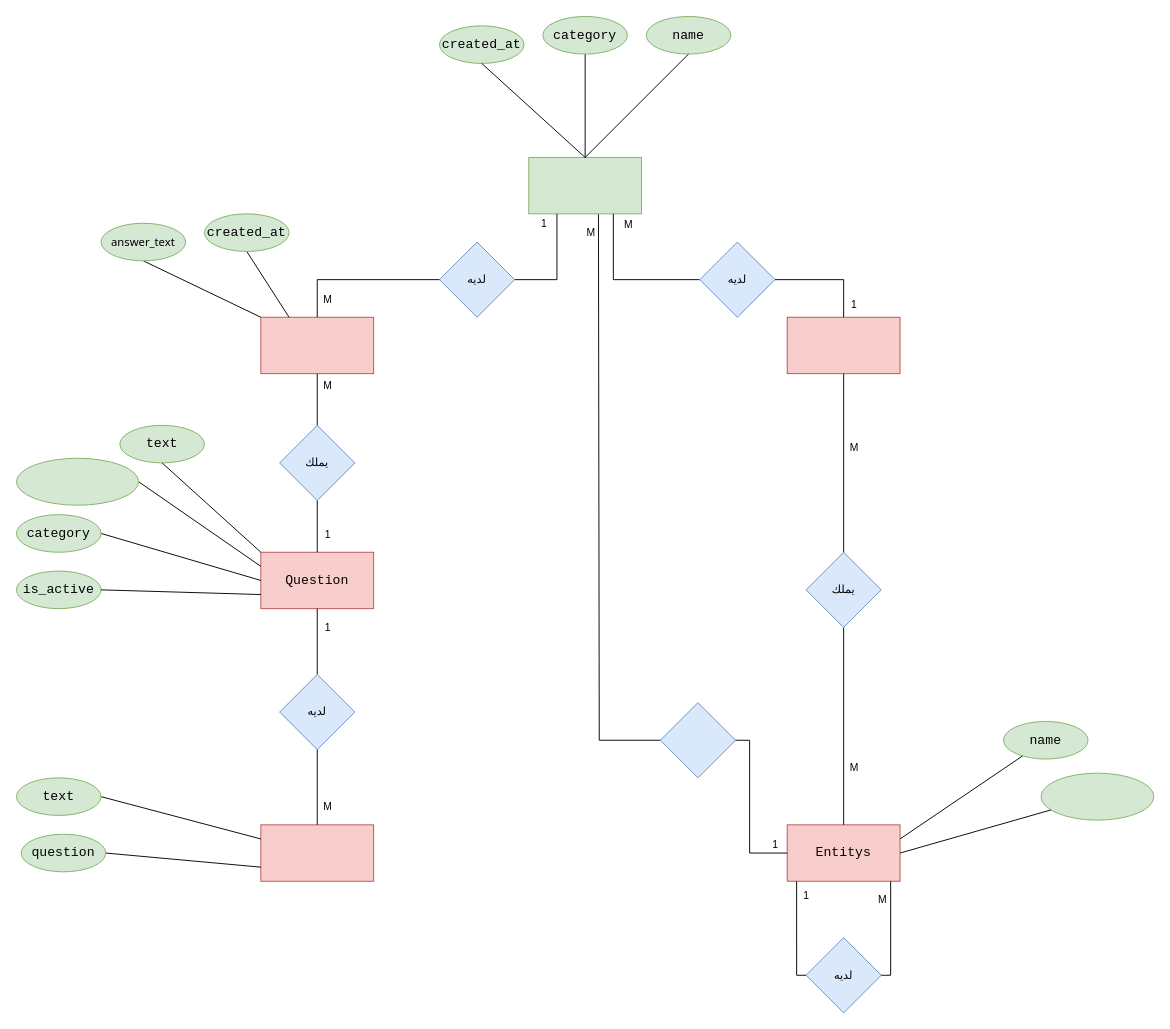
This 1170x1029 diagram has some shape labels left out. The shapes that lost their labels are listed below. From the top down, each one's box as (x1, y1, x2, y2) in pixels, then its label:
(528, 157, 642, 214): Surveys
(260, 316, 374, 374): Answers
(786, 316, 900, 374): user
(16, 457, 139, 505): question_type
(659, 702, 736, 778): مرتبط
(1040, 772, 1154, 820): description
(260, 824, 374, 881): Choice
